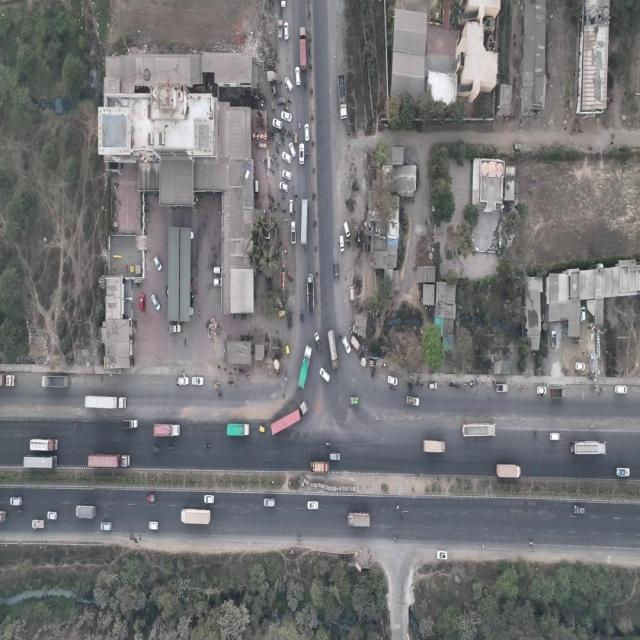3W: (146, 495, 156, 504), (152, 445, 160, 454), (408, 381, 414, 392), (285, 343, 290, 355), (278, 310, 286, 317), (286, 311, 294, 318), (288, 318, 292, 330), (259, 425, 265, 433), (300, 312, 304, 323)
Bus: (462, 422, 496, 440), (571, 439, 607, 456), (22, 454, 58, 469)
Cars: (343, 334, 351, 356), (151, 293, 160, 312), (318, 368, 330, 382), (295, 66, 302, 89), (153, 255, 163, 271), (282, 149, 292, 165), (615, 467, 631, 477), (263, 497, 276, 509), (307, 499, 319, 512), (278, 180, 290, 193), (178, 374, 190, 386), (299, 141, 305, 165), (436, 548, 448, 560), (289, 139, 296, 159), (285, 75, 293, 92), (281, 169, 293, 180), (329, 451, 341, 462), (47, 509, 57, 522), (202, 494, 215, 504), (282, 109, 292, 122), (272, 117, 282, 130), (573, 505, 586, 515), (343, 220, 350, 238), (192, 376, 204, 386), (304, 123, 310, 143), (388, 374, 398, 386), (339, 234, 345, 253), (284, 22, 290, 41), (334, 261, 339, 283), (276, 95, 286, 106), (536, 386, 547, 396), (10, 497, 22, 506), (100, 522, 112, 531), (139, 294, 145, 312), (614, 385, 626, 394), (551, 329, 557, 347), (428, 381, 438, 391), (550, 432, 561, 441), (575, 362, 586, 371), (580, 306, 586, 322), (149, 521, 159, 530), (288, 199, 294, 214), (212, 267, 222, 275), (349, 286, 354, 302), (278, 19, 282, 38), (213, 278, 221, 286)
LCV: (122, 417, 140, 430), (314, 332, 322, 354), (30, 518, 44, 530), (167, 322, 181, 334), (406, 394, 420, 406), (290, 221, 296, 245), (496, 383, 508, 393), (349, 396, 359, 406)
M2W: (297, 535, 303, 542), (529, 540, 535, 547), (75, 422, 81, 428), (532, 430, 538, 436), (168, 444, 173, 451), (205, 443, 211, 448), (218, 392, 224, 397), (326, 441, 331, 446), (18, 509, 23, 513)
MAV: (269, 398, 309, 436), (88, 452, 132, 468), (85, 394, 128, 410)
Truck: (297, 340, 313, 389), (181, 506, 211, 526), (338, 73, 348, 121), (298, 26, 308, 72), (328, 330, 339, 370), (29, 437, 58, 452), (300, 198, 309, 245), (154, 422, 180, 438), (347, 512, 371, 529), (42, 374, 69, 388), (423, 438, 446, 454), (496, 463, 521, 477), (307, 272, 315, 314), (227, 423, 250, 437), (310, 460, 329, 473), (75, 506, 95, 518), (550, 387, 566, 399)
